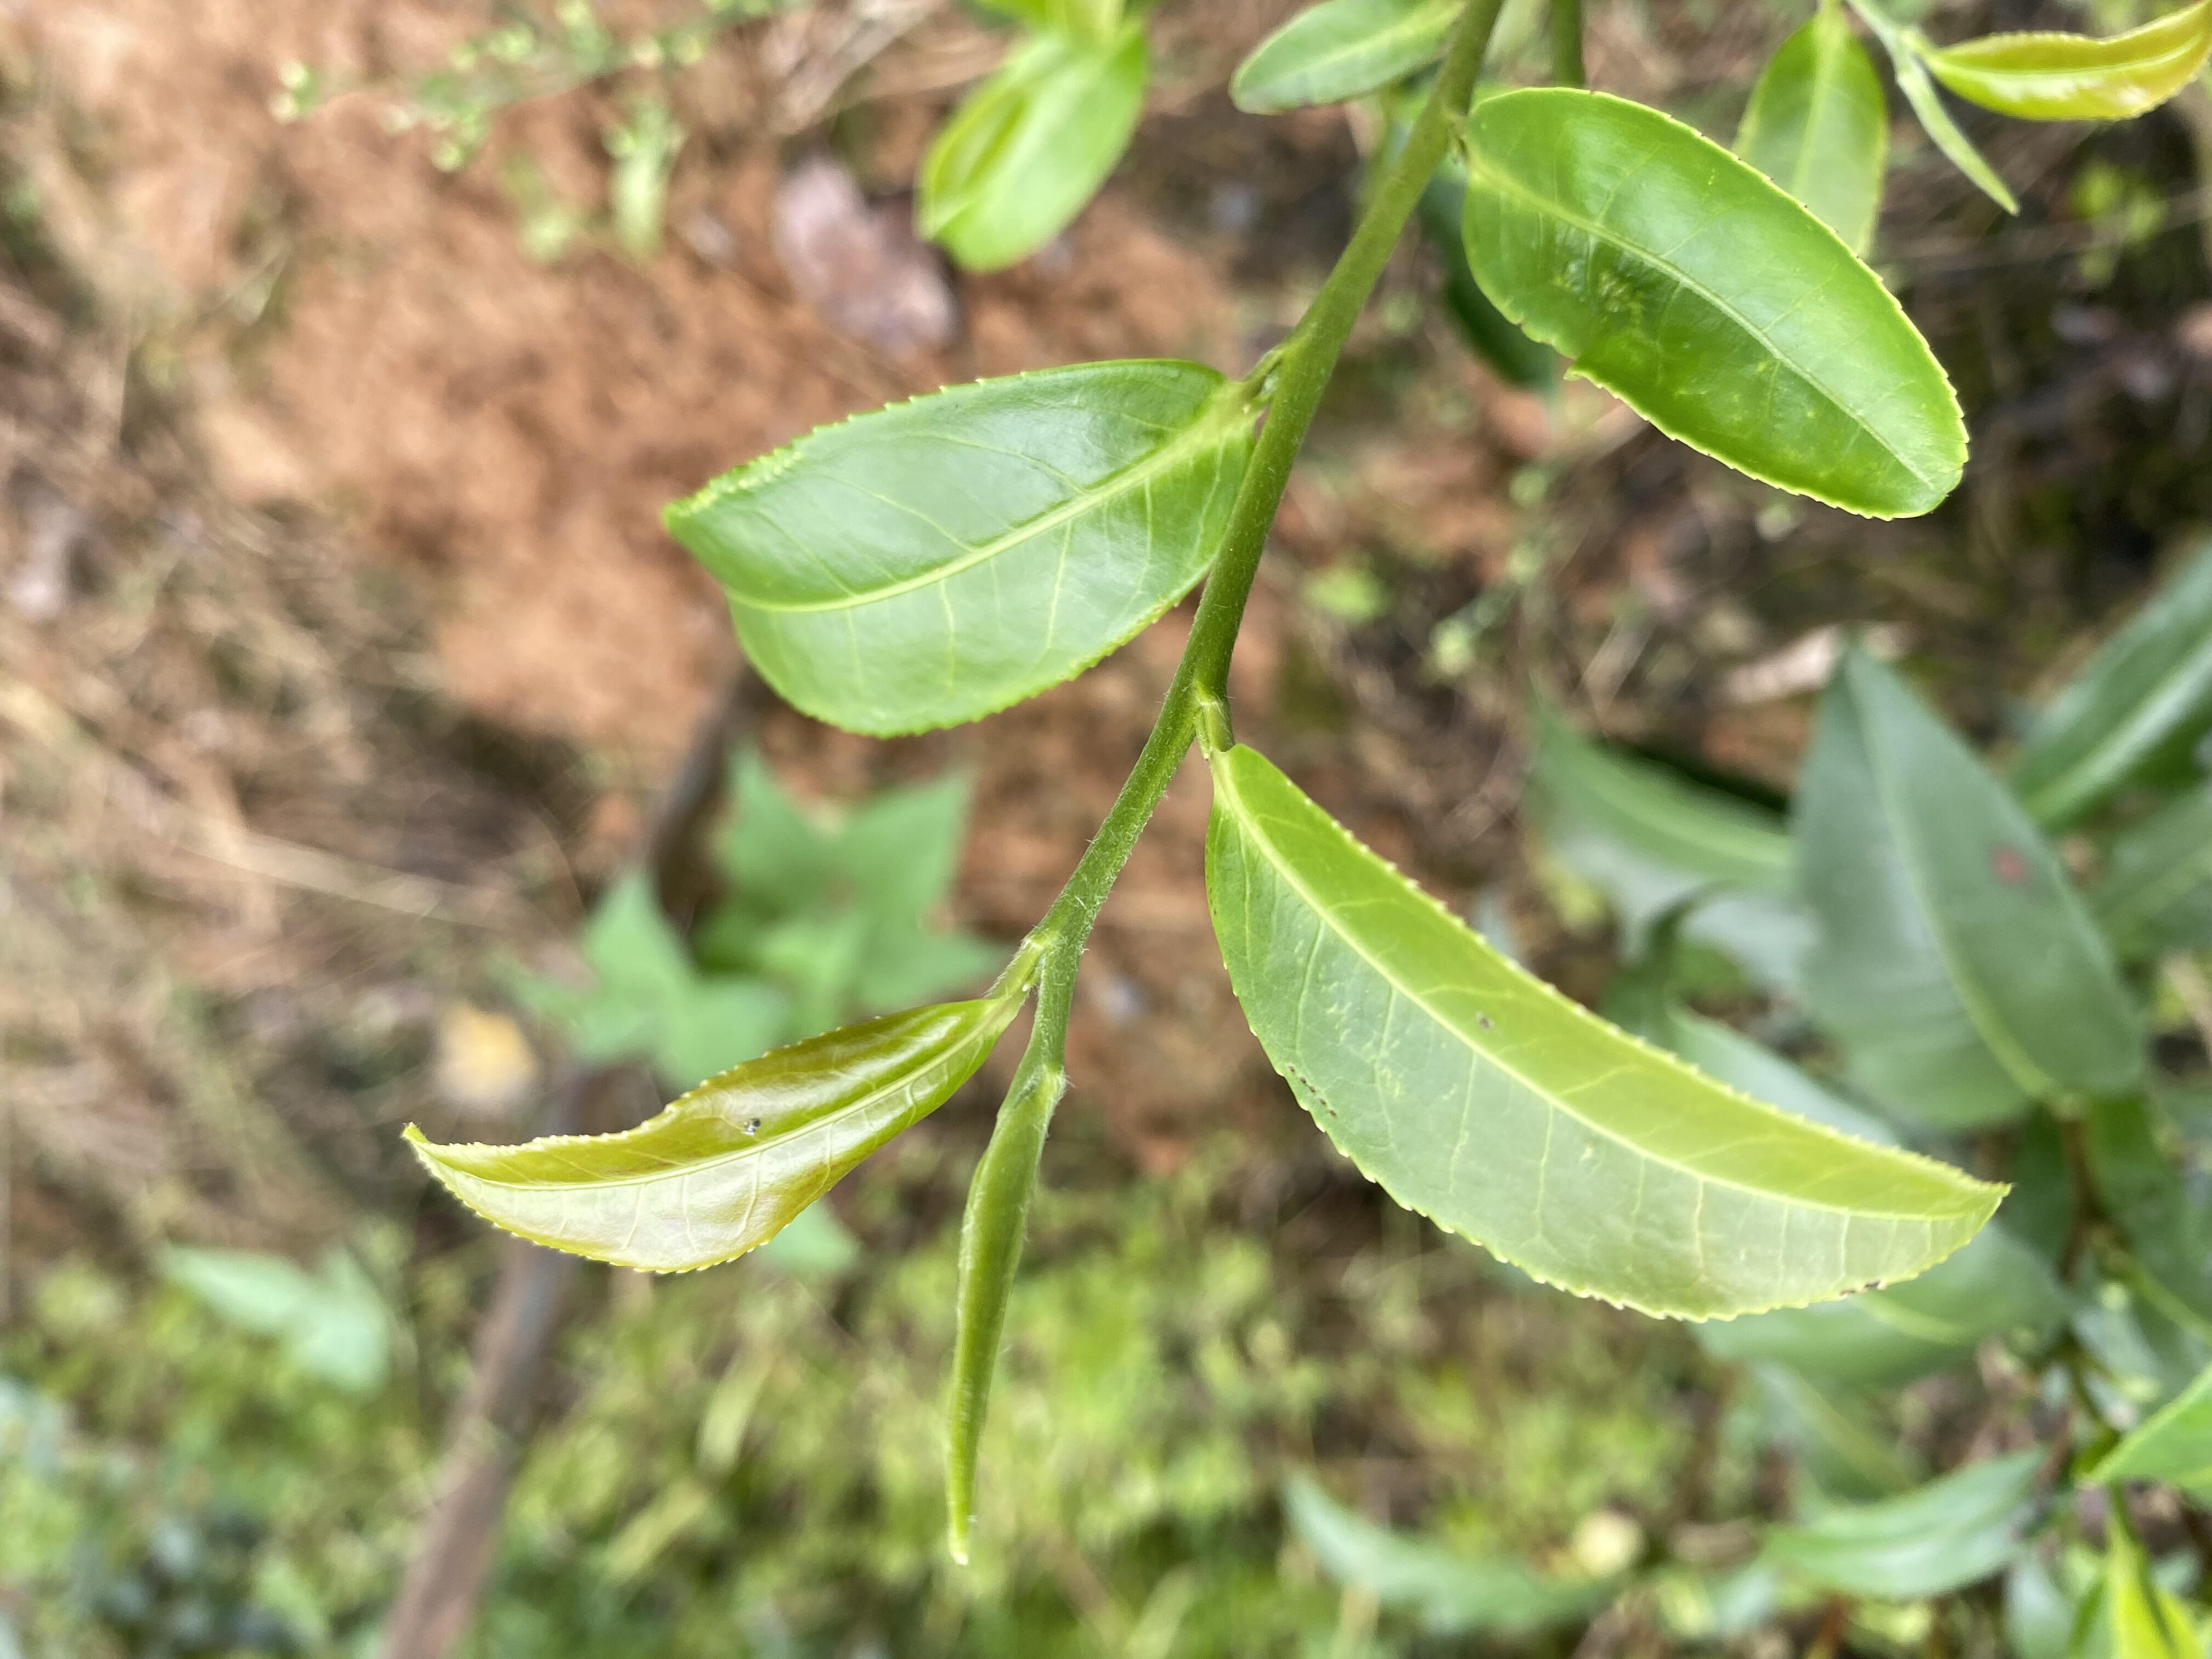healthy: (648, 356, 1252, 741), (1456, 91, 1975, 526)
tanju_low: (1202, 741, 2012, 1324), (397, 999, 1010, 1276)
